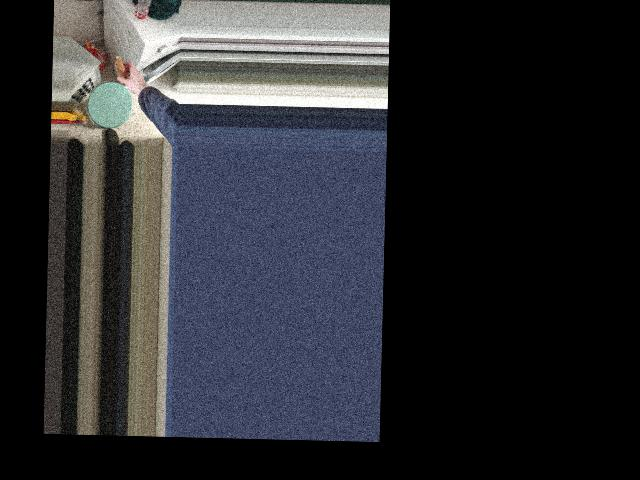sweet_potato: (114, 56, 135, 93)
